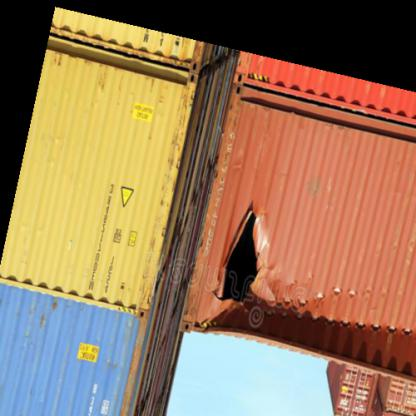Damage: (200, 193, 310, 342)
